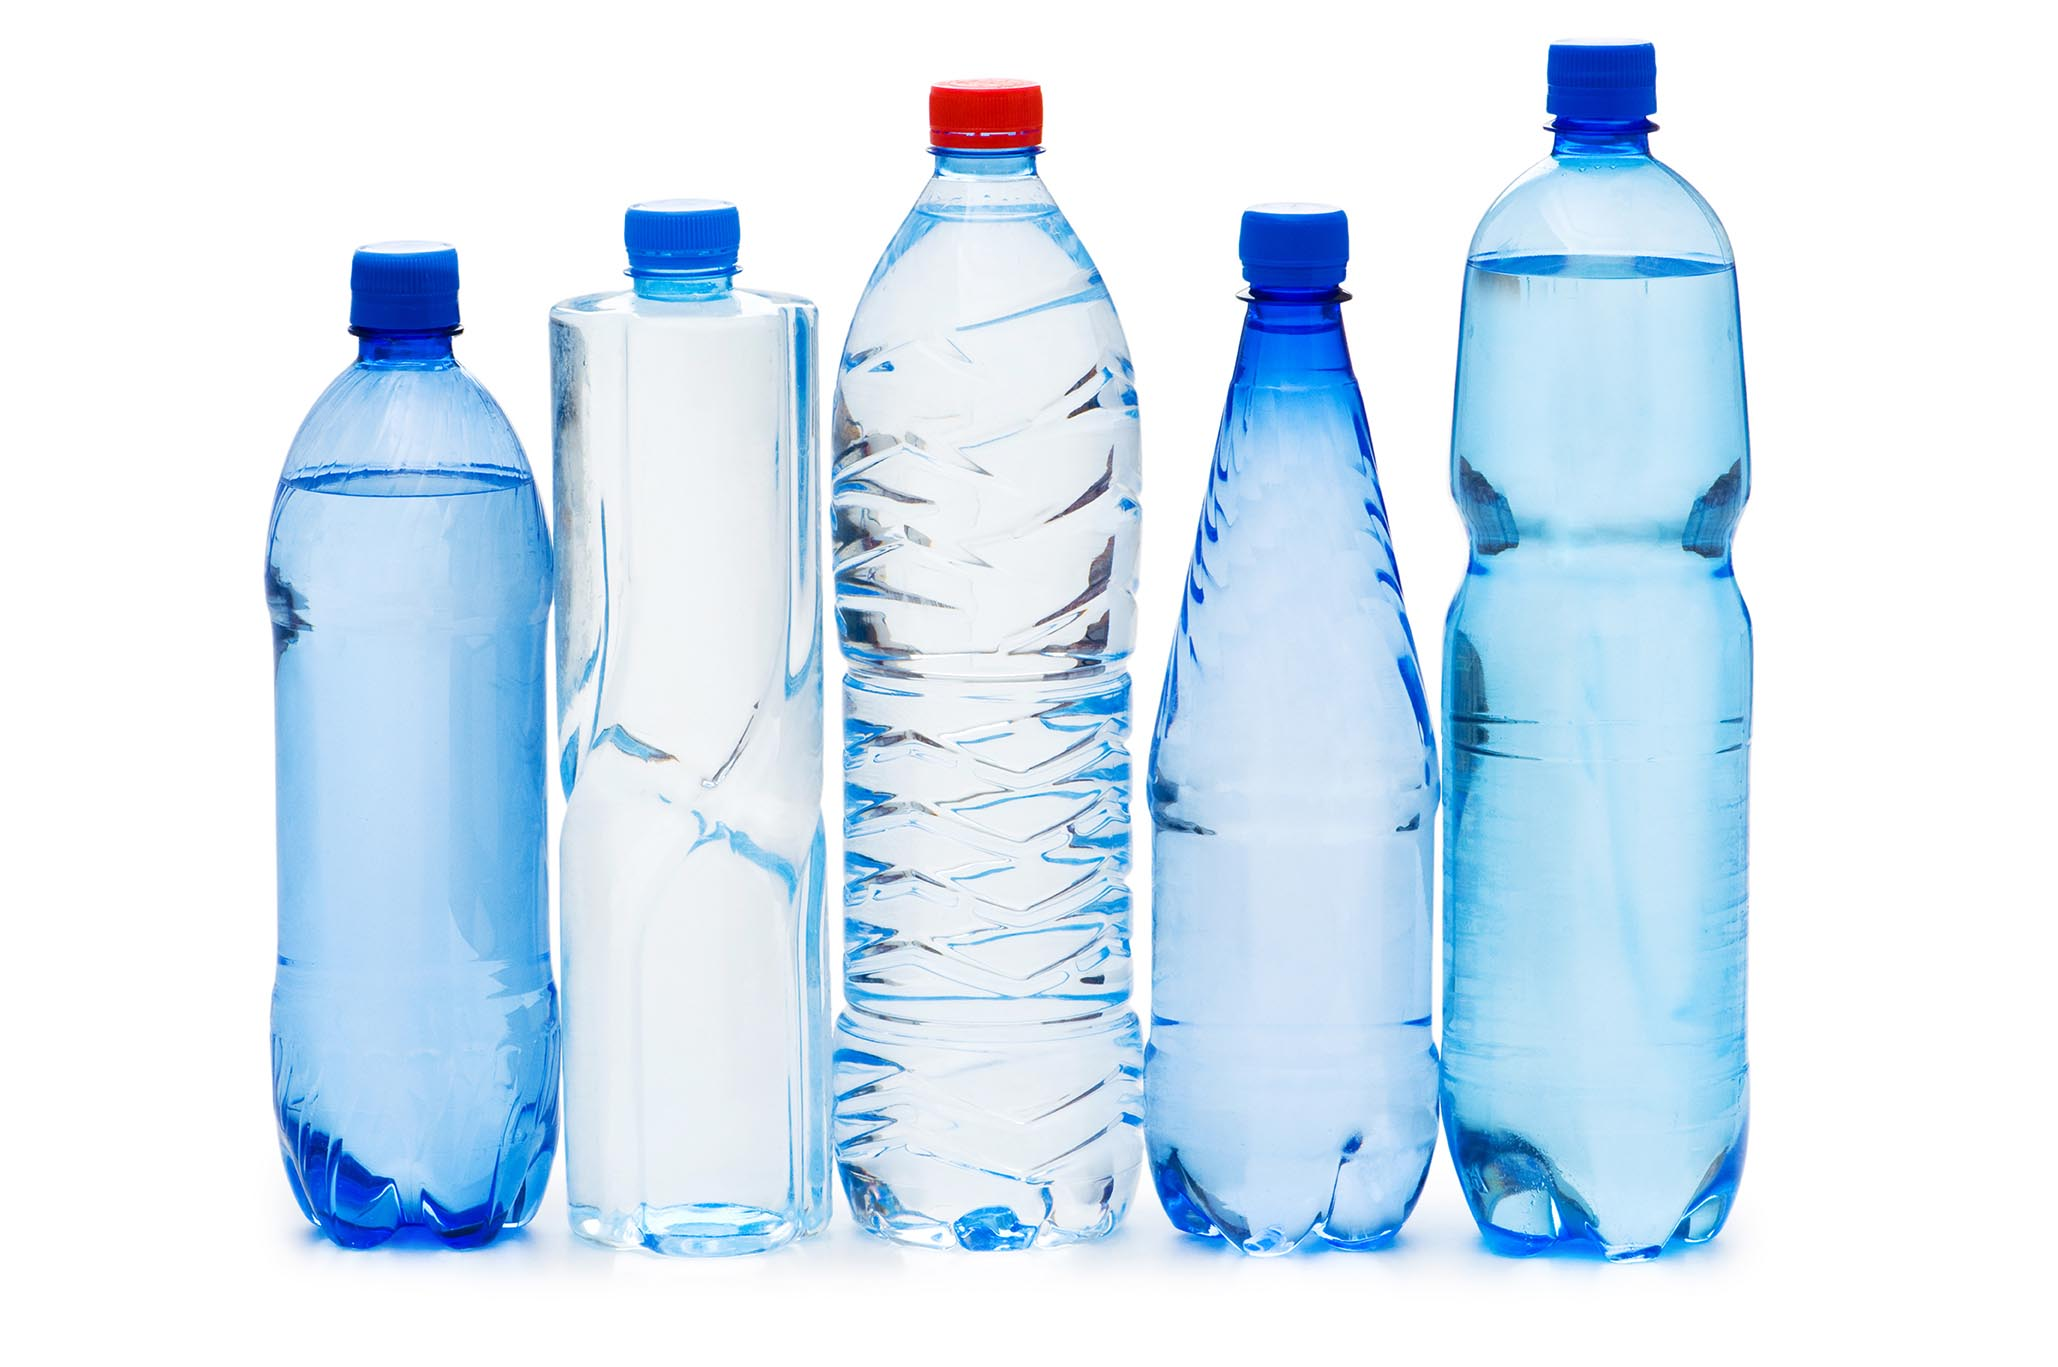plastic_bottle: (1426, 34, 1777, 1266), (822, 72, 1146, 1263), (1141, 191, 1443, 1271), (246, 218, 555, 1256), (543, 197, 836, 1262)
